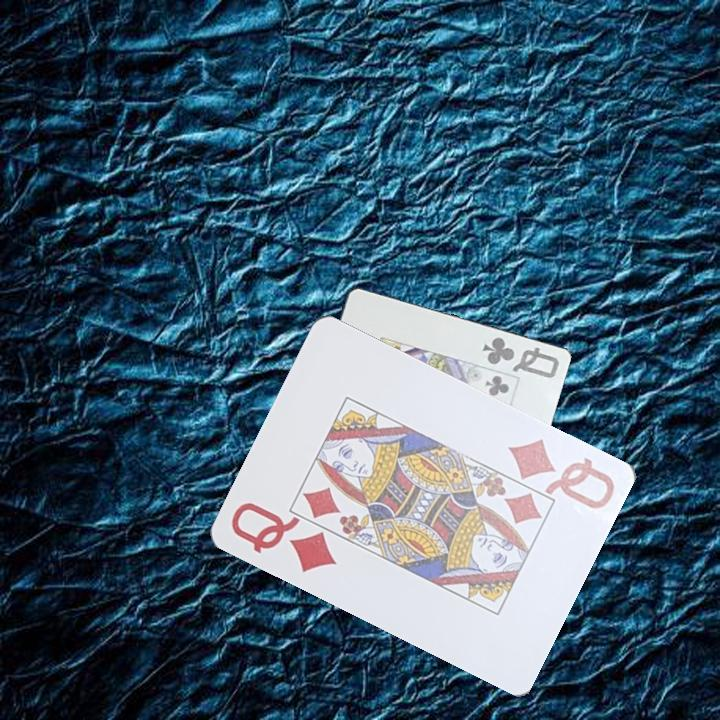Qc: (478, 333, 562, 381)
Qd: (505, 434, 619, 513), (227, 498, 341, 576)
